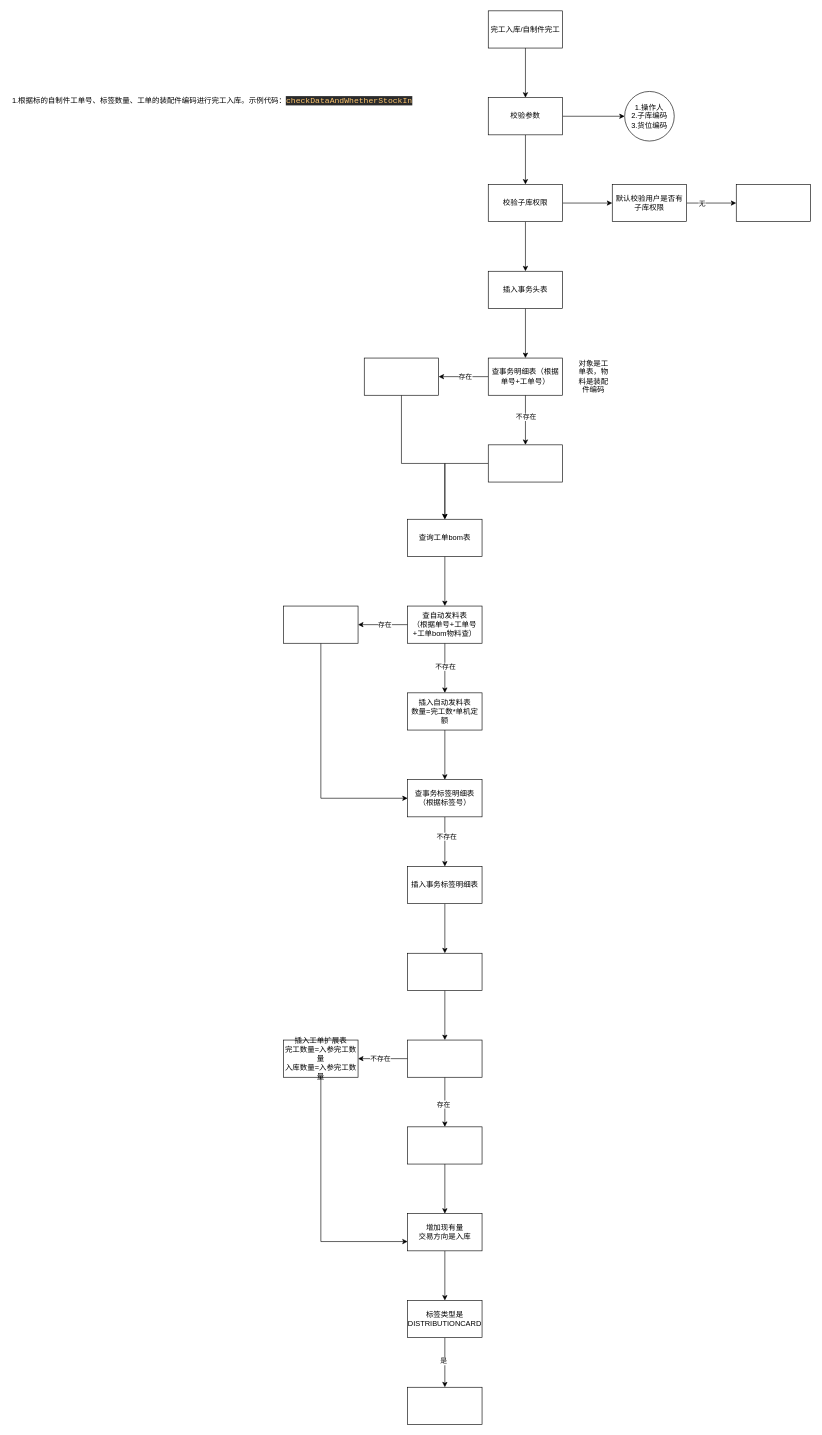
This 822x1435 diagram has some shape labels left out. The shapes that lost their labels are listed below. From the top down, each one's centre as x and y in pixels, then its label:
At point (773, 203): "报错提示".
At point (401, 376): "更新事务明细表数量 数量=数量+完工数量".
At point (525, 463): "插入事务明细表 数量=完工数量".
At point (320, 624): "更新自动发料表 数量=原数量+(完工数*单机定额)".
At point (444, 971): "查标签表".
At point (444, 1058): "查工单扩展表 （根据self_work_order_name查）".
At point (444, 1145): "更新工单扩展表 完工数量=原始完工数量+入参完工数量 入库数量=原始入库数量+入参完工数量".
At point (444, 1405): "更新标签状态为入库 货位、数量、入库时间".
